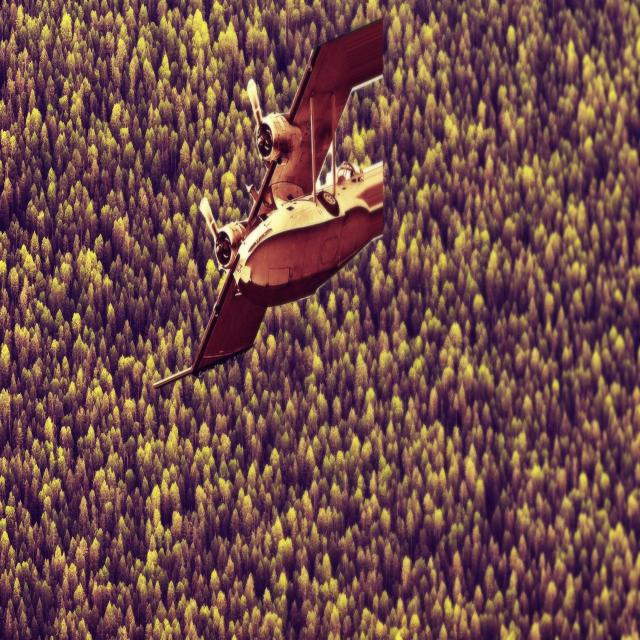airplane: (152, 17, 385, 390)
